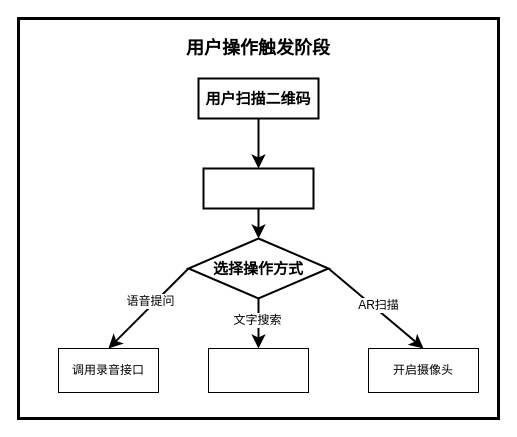
Some shapes in this 517 by 437 pixel diagram are drawn without their labels. Here are the shapes that lost their labels. From the top down, the box of each, then its label:
(202, 167, 314, 209): 微信小程序启动
(208, 348, 308, 392): 文本框输入
